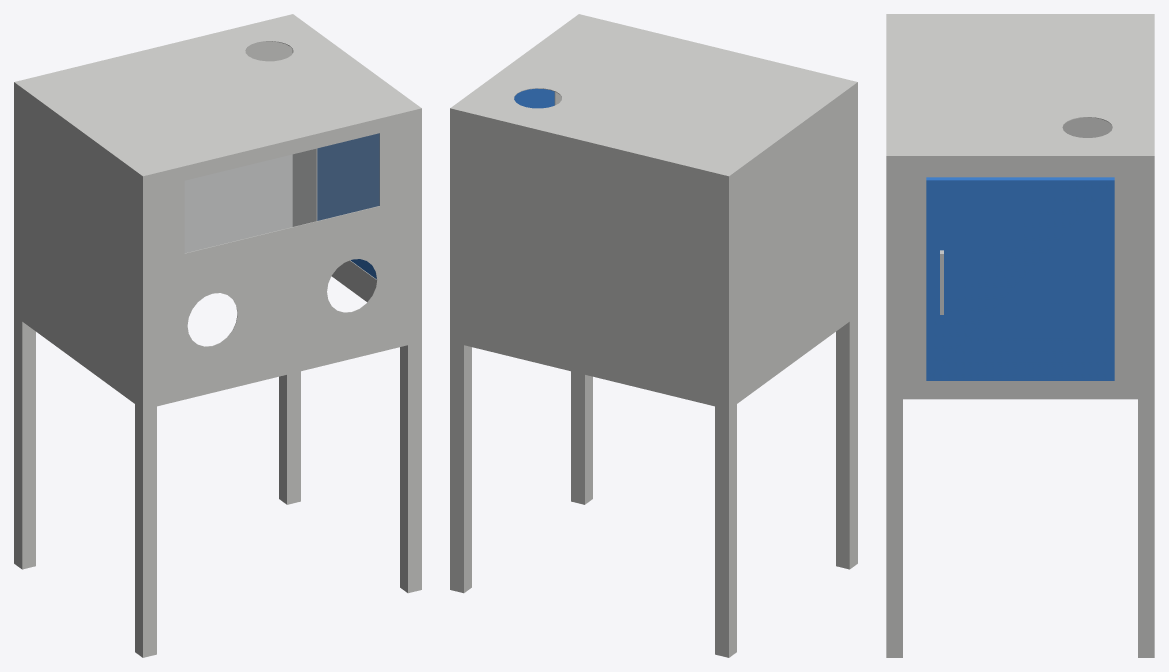
Rendered from cabinet-blast.glb.
3 views of the same model, side by side, from view 1: azimuth 30°, elevation 25°; view 2: azimuth 150°, elevation 25°; view 3: azimuth 270°, elevation 25° (orthographic). The views are drawn at different scales.
Visible parts, largest first — view 1: body, door; view 2: body, door; view 3: body, door.
Boxes of the visible parts, x1,y1,x2,y2 form: body: (14, 14, 421, 657); door: (317, 133, 379, 279); body: (450, 14, 857, 657); door: (514, 88, 554, 108); body: (886, 14, 1154, 657); door: (926, 177, 1114, 380).
Size of what is drawn, in the model's own units: 1.05 by 1.65 by 0.8.
